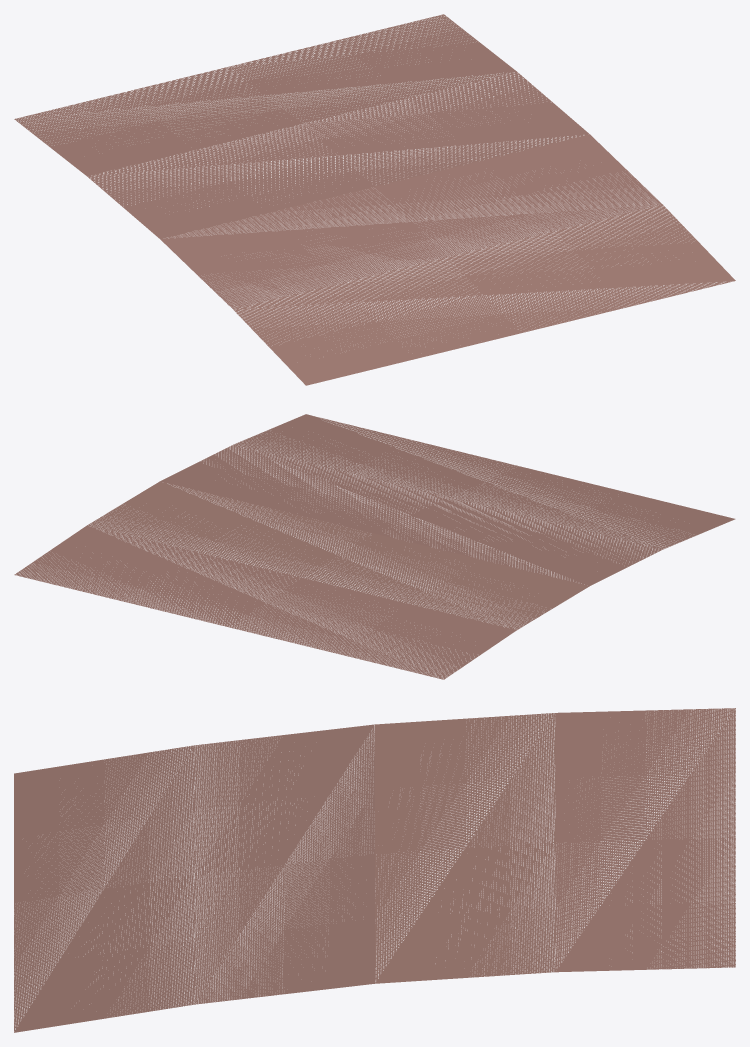
File: SW_ENV_RailTunnelCeiling_Riser_B_Double_10m_Collision.fbx
3 views of the same model, one above another, from view 1: azimuth 30°, elevation 25°; view 2: azimuth 150°, elevation 25°; view 3: azimuth 270°, elevation 25° (orthographic). The views are drawn at different scales.
Parts seen in each view (by area): view 1: SW_ENV_RailTunnelCeiling_Riser_B_Double_10m_Collision; view 2: SW_ENV_RailTunnelCeiling_Riser_B_Double_10m_Collision; view 3: SW_ENV_RailTunnelCeiling_Riser_B_Double_10m_Collision.
Part boxes in pixels (x1,y1,x2,y2): SW_ENV_RailTunnelCeiling_Riser_B_Double_10m_Collision: (14, 14, 735, 385); SW_ENV_RailTunnelCeiling_Riser_B_Double_10m_Collision: (14, 414, 735, 679); SW_ENV_RailTunnelCeiling_Riser_B_Double_10m_Collision: (14, 708, 735, 1032).
Bounding box in the file's own units: 8.5 × 1 × 10.
